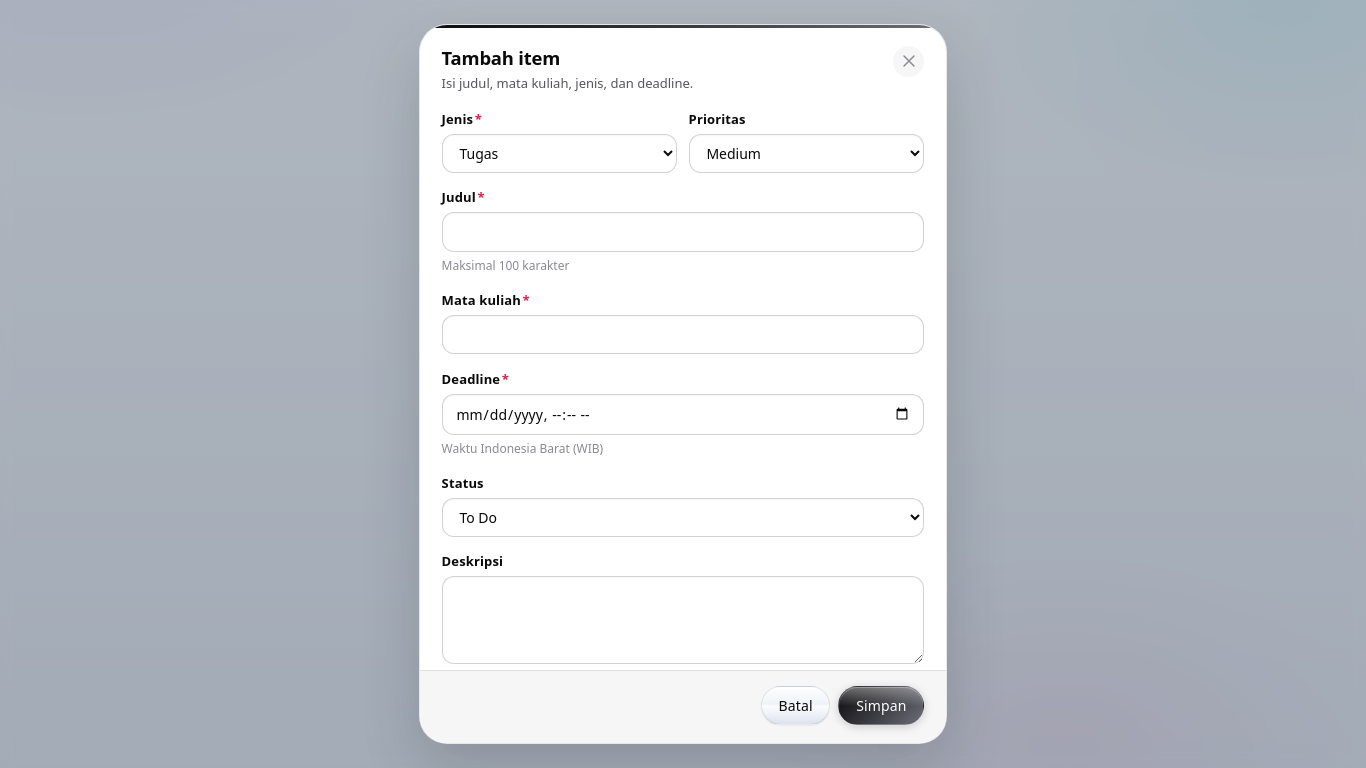
Test: ItemFormModal required fields › warns but still saves a past deadline
In the field labelled "Judul*": x=683, y=232 [442,212,924,252], type "Tugas Terlambat"
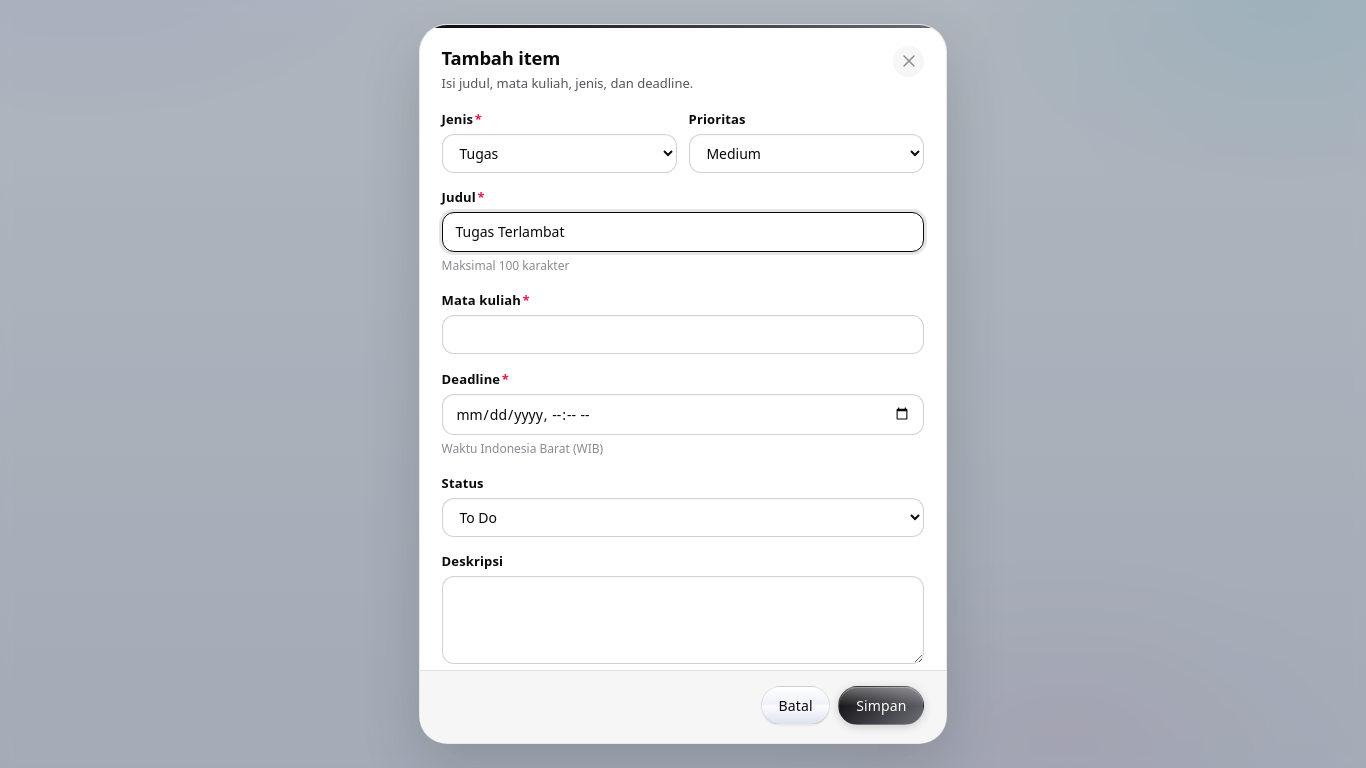
In the field labelled "Mata kuliah*": x=683, y=334 [442,314,924,354], type "Aljabar Linear"
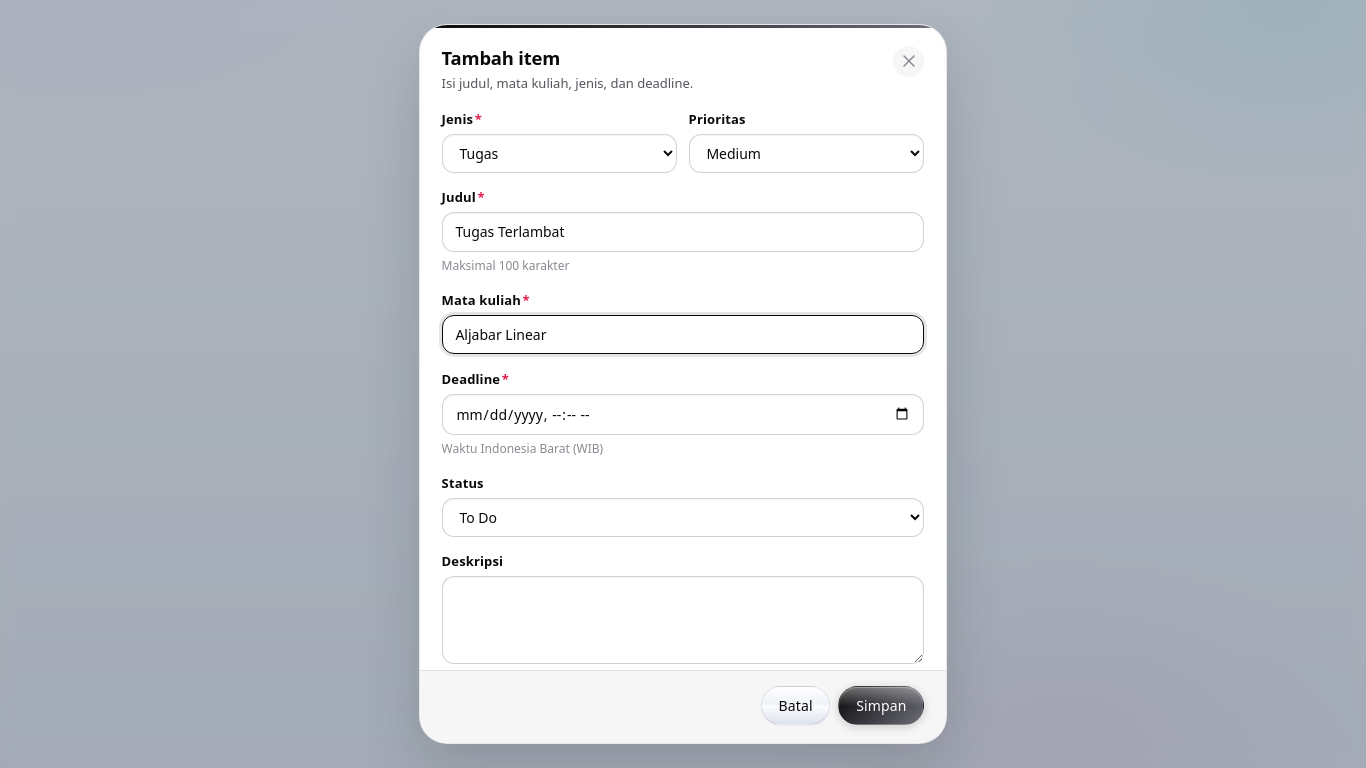
In the field labelled "Deadline*": x=683, y=414 [442,394,924,435], type "2000-01-01T09:00"
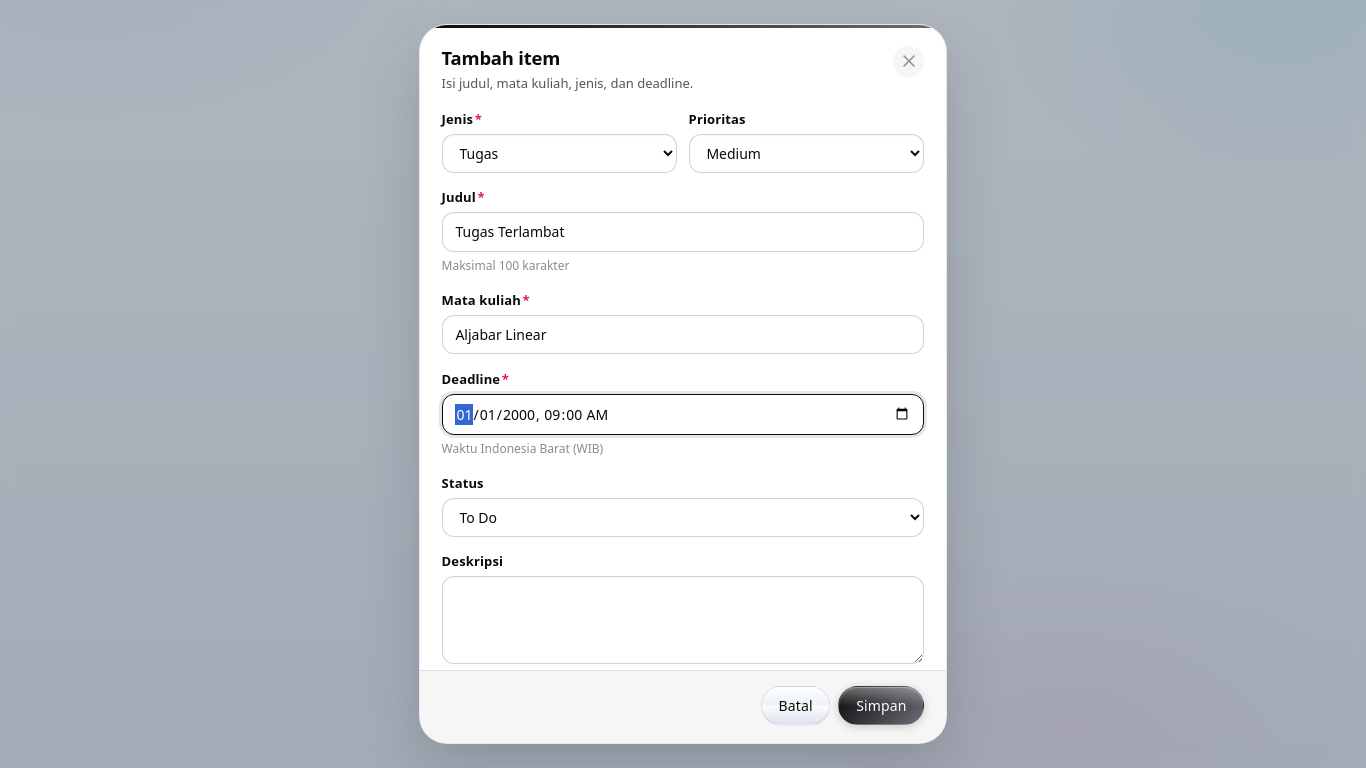
Click the button "Simpan": x=882, y=706 [838,686,924,725]
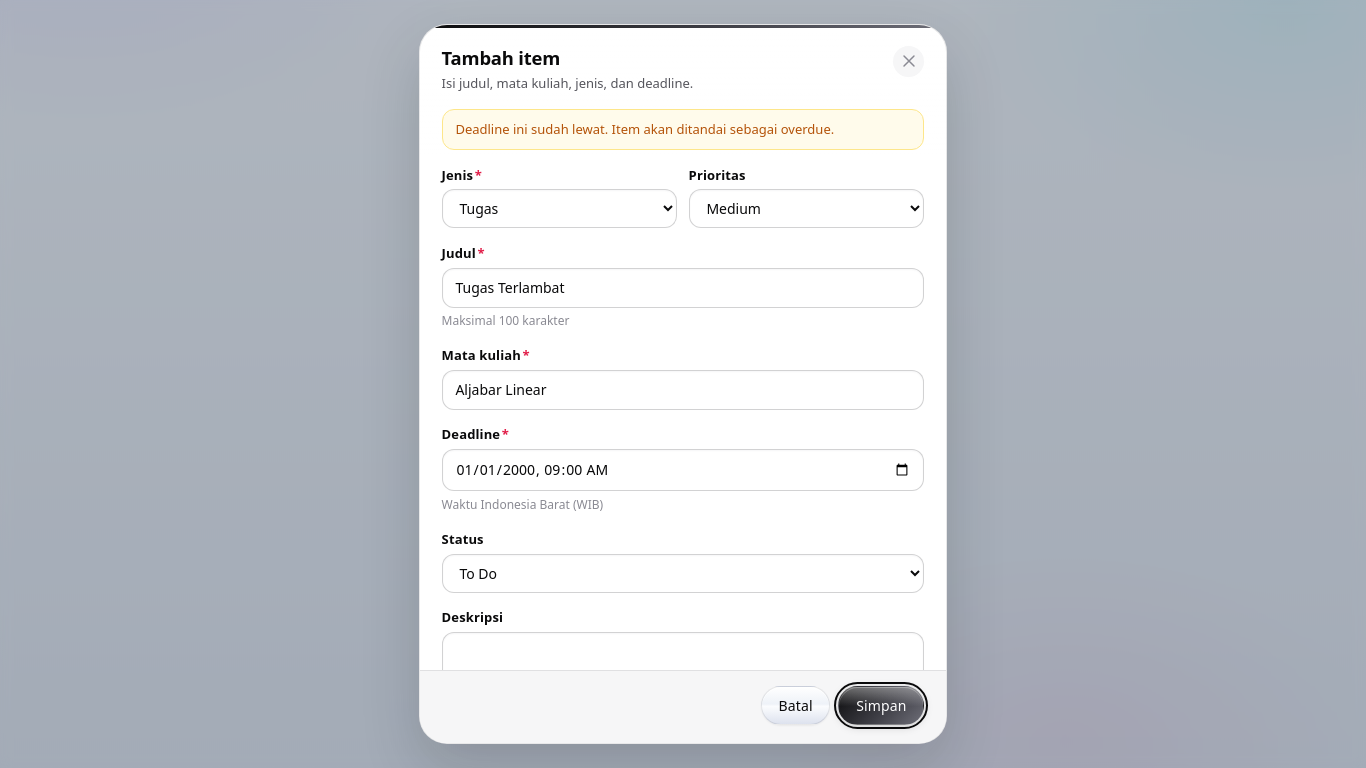
Now the text "sudah lewat" is shown, box [455,120,834,138]
